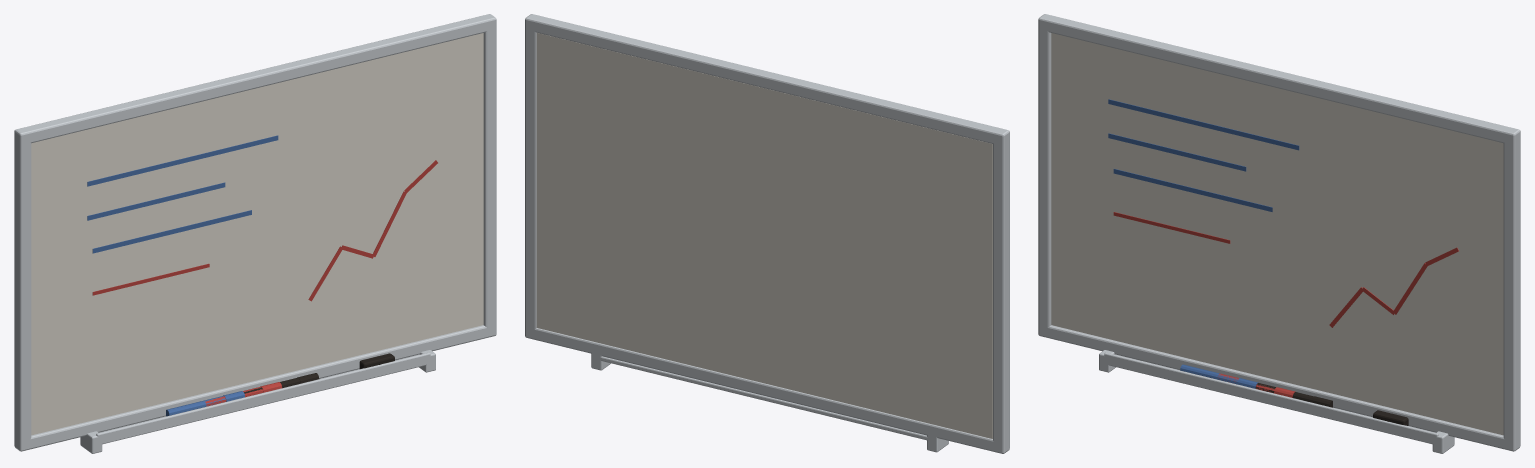
File: hh_cat_whiteboard.glb
The picture shows the model from 3 angles, left to right: view 1: azimuth 30°, elevation 25°; view 2: azimuth 150°, elevation 25°; view 3: azimuth 330°, elevation 25°; orthographic projection.
Visible parts, largest first — view 1: surface, frame.002, frame.001, frame, frame.003, pen_ledge.001, ink, ink.002, pen_ledge, ink.001, ink.003; view 2: surface, frame.002, frame, frame.001, frame.003, pen_ledge; view 3: surface, frame.002, frame.003, frame, frame.001, pen_ledge.001, ink, pen_ledge, ink.002, ink.001, ink.003.
Part boxes in pixels (x1,y1,x2,y2): surface: [31, 33, 483, 435]; frame.002: [23, 16, 496, 143]; frame.001: [14, 127, 31, 451]; frame: [21, 325, 496, 451]; frame.003: [482, 14, 496, 337]; pen_ledge.001: [96, 352, 430, 444]; ink: [87, 135, 278, 186]; ink.002: [92, 210, 251, 253]; pen_ledge: [99, 354, 430, 441]; ink.001: [87, 182, 225, 220]; ink.003: [92, 263, 209, 295]; surface: [536, 33, 992, 438]; frame.002: [525, 16, 1002, 144]; frame: [525, 327, 1003, 453]; frame.001: [993, 128, 1009, 453]; frame.003: [525, 14, 539, 338]; pen_ledge: [597, 356, 927, 440]; surface: [1051, 33, 1503, 435]; frame.002: [1039, 16, 1515, 144]; frame.003: [1503, 127, 1520, 451]; frame: [1039, 325, 1513, 451]; frame.001: [1038, 14, 1052, 336]; pen_ledge.001: [1104, 352, 1438, 444]; ink: [1108, 99, 1299, 150]; pen_ledge: [1104, 354, 1436, 441]; ink.002: [1113, 169, 1272, 211]; ink.001: [1108, 133, 1246, 171]; ink.003: [1113, 212, 1230, 243].
Bounding box in the file's own units: 0.9 × 0.6 × 0.04.
